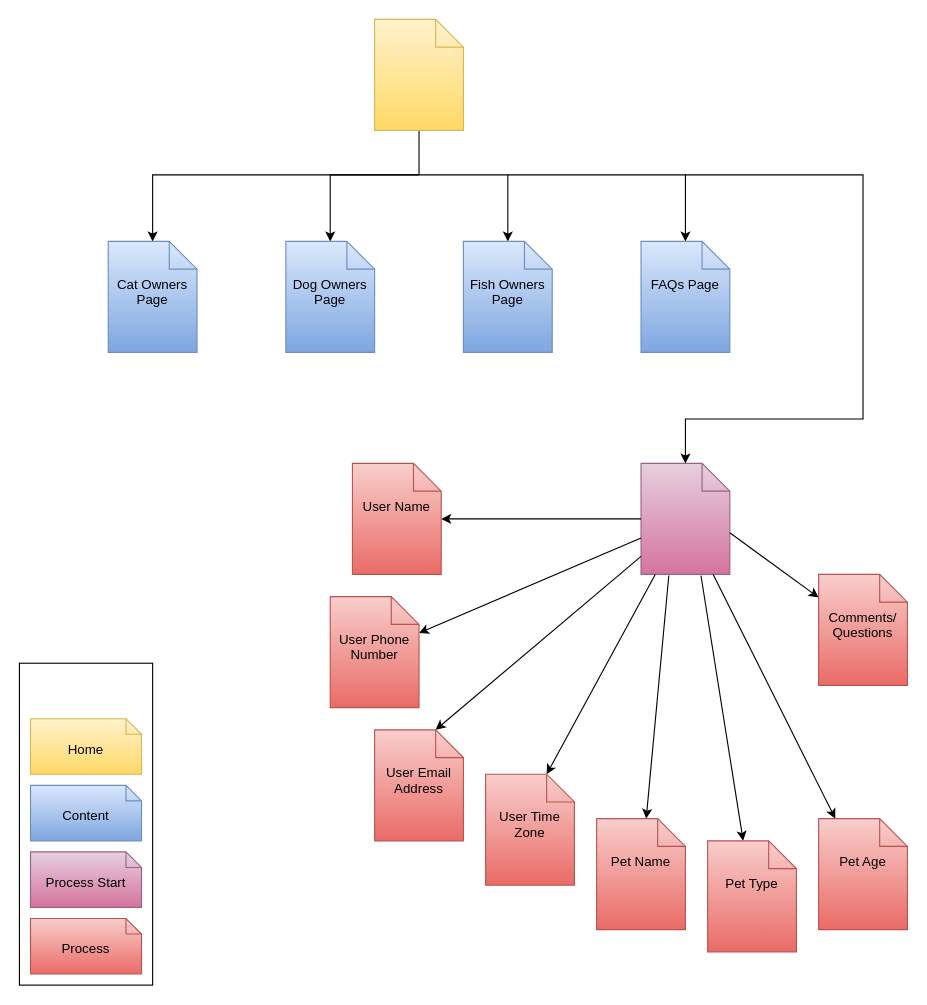
The diagram is 927 pixels wide and 1005 high, and some of its shapes have lost their labels. Each missing label, with the box of its shape:
Contact Form Page: (640, 462, 730, 574)
Home Page: (374, 18, 463, 130)
LEGEND: (18, 662, 153, 985)
